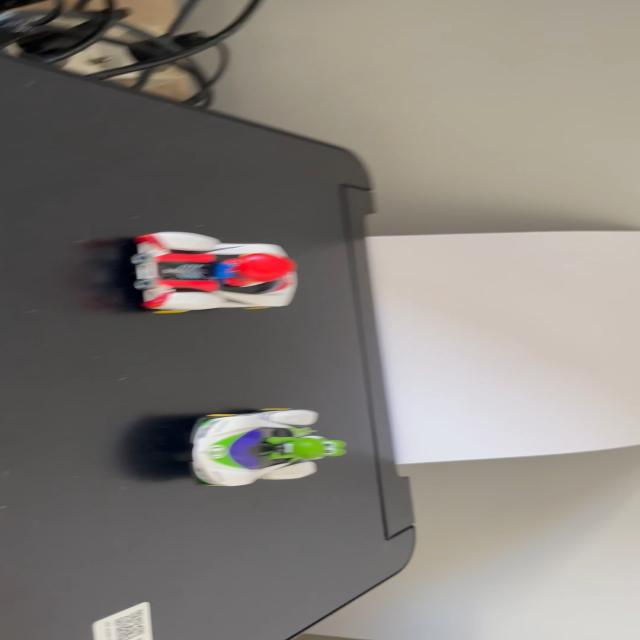mario: (107, 227, 310, 322)
yoshi: (170, 403, 356, 498)
